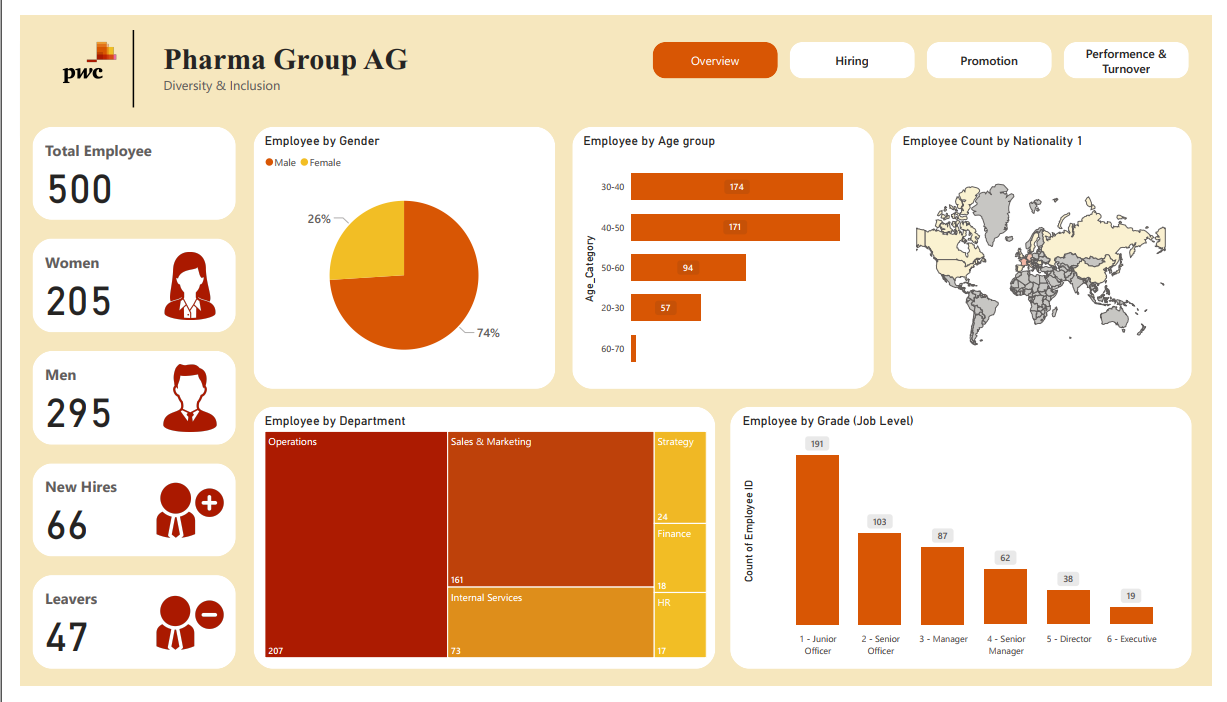

Layout of this report page (visuals, bound fields, positions):
{"tool":"powerbi","page":{"name":"Overview","canvas":[1600,900],"ordinal":0},"visuals":[{"type":"shape","box":[1169.8,148.8,404.7,352.3],"z":0},{"type":"shape","box":[17.4,450,272.1,125.6],"z":1000},{"type":"shape","box":[17.4,299.4,272.1,125.6],"z":2000},{"type":"shape","box":[17.4,148.8,272.1,125.6],"z":3000},{"type":"shape","box":[954.2,525.1,620.1,352],"z":4000},{"type":"shape","box":[314,148.8,405,352.3],"z":5000},{"type":"shape","box":[314,525.1,620,352],"z":6000},{"type":"shape","box":[741.9,148.8,405,352.3],"z":7000},{"type":"image","box":[33.8,8.8,120,106.2],"z":8000},{"type":"textbox","title":"Pharma Group AG","box":[188.4,34.9,345.3,70.9],"z":9000},{"type":"shape","box":[102.3,18.6,101.2,104.7],"z":10000},{"type":"cardVisual","fields":{"Data":["CountNonNull(Backing 1.Employee ID)"]},"box":[17.4,148.8,272.1,125.6],"z":11000},{"type":"pieChart","title":"Employee by Gender","fields":{"Category":["Backing 1.GENDER"],"Y":["CountNonNull(Backing 1.Employee ID)"]},"box":[324.4,157,383.7,334.9],"z":12000},{"type":"cardVisual","fields":{"Data":["Measures Table.Female employees"]},"box":[17.4,300,272.1,125.6],"z":13000},{"type":"cardVisual","fields":{"Data":["Measures Table.Male employees"]},"box":[17.4,450,272.1,125.6],"z":14000},{"type":"barChart","title":"Employee by Age group","fields":{"Category":["Backing 1.Age_Category"],"Y":["CountNonNull(Backing 1.Employee ID)"]},"box":[752.3,158.1,386,334.9],"z":15000},{"type":"shape","box":[17.4,600.6,272.1,125.6],"z":16000},{"type":"shape","box":[17.4,751.2,272.1,125.6],"z":17000},{"type":"cardVisual","fields":{"Data":["Measures Table.New hire FY20"]},"box":[17.4,601.2,272.1,125.6],"z":18000},{"type":"cardVisual","fields":{"Data":["Measures Table.FY20 leaver"]},"box":[17.4,751.2,272.1,125.6],"z":19000},{"type":"shapeMap","title":"Employee Count by Nationality 1 ","fields":{"Category":["Backing 1.Nationality"],"Value":["CountNonNull(Backing 1.Employee ID)"]},"box":[1181.4,157,380.2,334.9],"z":20000},{"type":"treemap","title":"Employee  by Department","fields":{"Group":["Backing 1.FUNCTION"],"Values":["CountNonNull(Backing 1.Employee ID)"]},"box":[324,534.1,603.4,333],"z":21000},{"type":"clusteredColumnChart","title":"Employee by Grade (Job Level)","fields":{"Category":["Backing 1.GRADE"],"Y":["CountNonNull(Backing 1.Employee ID)"]},"box":[966.5,534.1,595.5,334.1],"z":22000},{"type":"pageNavigator","box":[849.6,34.8,723.6,49.6],"z":23000}]}

Visuals, with their boxes in screenshot pixels (x1, y1, x2, y2), scaled from the page's 1600x900 canvas onto the 1227x702 screenshot:
shape: (897,116,1207,391)
shape: (13,351,222,449)
shape: (13,234,222,332)
shape: (13,116,222,214)
shape: (732,410,1207,684)
shape: (241,116,551,391)
shape: (241,410,716,684)
shape: (569,116,880,391)
image: (26,7,118,90)
"Pharma Group AG" textbox: (144,27,409,83)
shape: (78,15,156,96)
cardVisual - CountNonNull(Backing 1.Employee ID): (13,116,222,214)
"Employee by Gender" pieChart: (249,122,543,384)
cardVisual - Measures Table.Female employees: (13,234,222,332)
cardVisual - Measures Table.Male employees: (13,351,222,449)
"Employee by Age group" barChart: (577,123,873,385)
shape: (13,468,222,566)
shape: (13,586,222,684)
cardVisual - Measures Table.New hire FY20: (13,469,222,567)
cardVisual - Measures Table.FY20 leaver: (13,586,222,684)
"Employee Count by Nationality 1 " shapeMap: (906,122,1198,384)
"Employee  by Department" treemap: (248,417,711,676)
"Employee by Grade (Job Level)" clusteredColumnChart: (741,417,1198,677)
pageNavigator: (652,27,1206,66)
